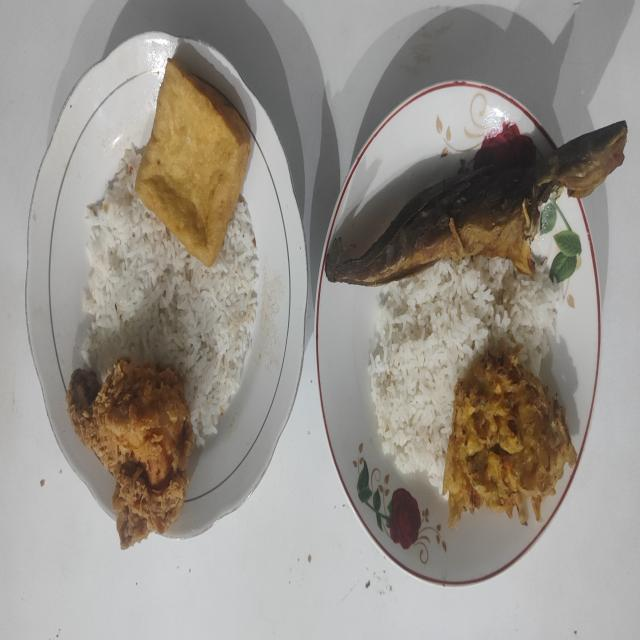nasi_putih: (78, 149, 258, 445), (368, 256, 560, 488)
tahu_goreng: (135, 60, 251, 266)
